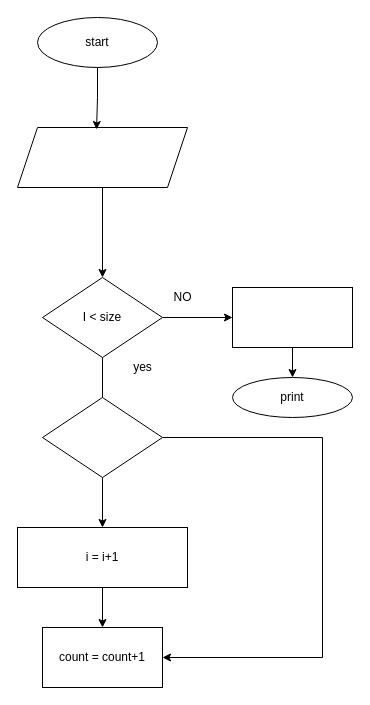
Some shapes in this 370 by 705 pixel diagram are drawn without their labels. The box of each missing label's shape, as (x1, y1, x2, y2) in pixels:
array = [a, ab, abc, abcc, ccfds, ssk ] size = 6 index = 0: (16, 126, 188, 188)
i_lenght = 3: (42, 396, 162, 478)
output count: (232, 286, 352, 348)
